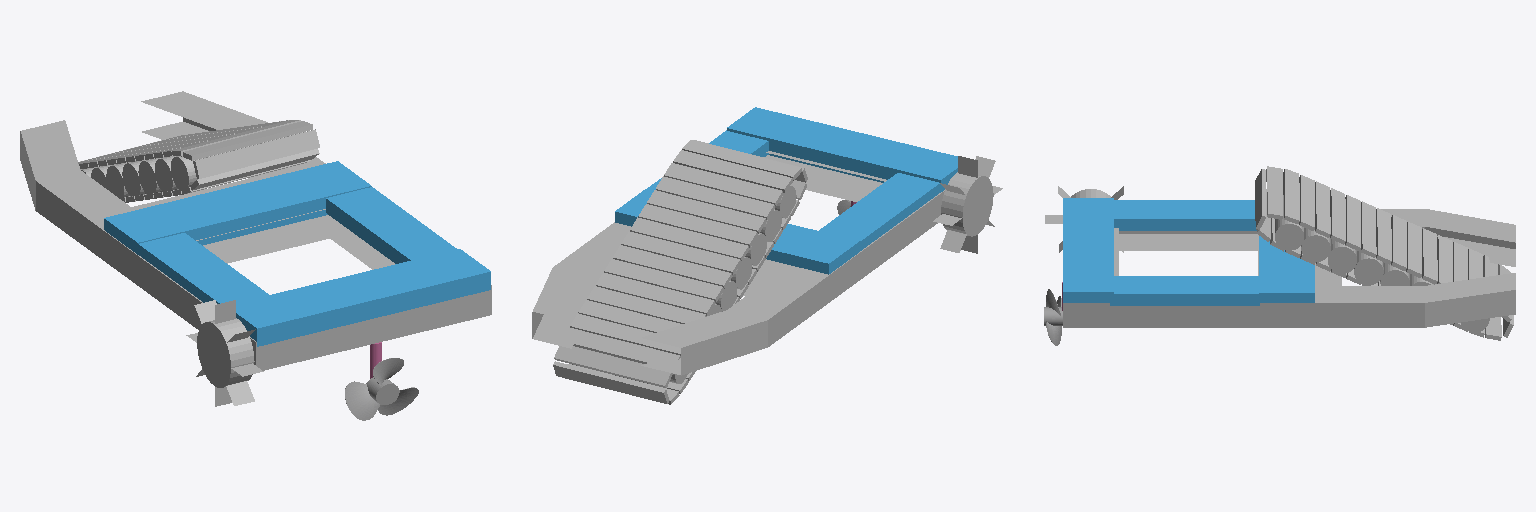
URDF robot description (kuka_kr210_arm):
<?xml version="1.0" ?>
<!-- =================================================================================== -->
<!-- |    This document was autogenerated by xacro from kr210.urdf.xacro               | -->
<!-- |    EDITING THIS FILE BY HAND IS NOT RECOMMENDED                                 | -->
<!-- =================================================================================== -->
<robot name="kuka_kr210_arm">
  <!-- Link0 -->
  <gazebo reference="base_link">
    <material>Gazebo/Red</material>
    <mu1>2</mu1>
    <mu2>2</mu2>
  </gazebo>
  <!-- Link1 -->
  <gazebo reference="link_1">
    <mu1>0.2</mu1>
    <mu2>0.2</mu2>
  </gazebo>
  <!-- Link2 -->
  <gazebo reference="link_2">
    <mu1>0.2</mu1>
    <mu2>0.2</mu2>
  </gazebo>
  <!-- Link3 -->
  <gazebo reference="link_3">
    <mu1>0.2</mu1>
    <mu2>0.2</mu2>
  </gazebo>
  <!-- Link4 -->
  <gazebo reference="link_4">
    <mu1>0.2</mu1>
    <mu2>0.2</mu2>
  </gazebo>
  <!-- Link5 -->
  <gazebo reference="link_5">
    <mu1>0.2</mu1>
    <mu2>0.2</mu2>
  </gazebo>
  <!-- Link6 -->
  <gazebo reference="link_6">
    <mu1>0.2</mu1>
    <mu2>0.2</mu2>
  </gazebo>
  <!-- Gripper -->
  <gazebo reference="gripper_link">
    <material>Gazebo/Red</material>
    <mu1>0.2</mu1>
    <mu2>0.2</mu2>
  </gazebo>
  <gazebo reference="left_gripper_finger_link">
    <material>Gazebo/Red</material>
    <kp>1000000.0</kp>
    <kd>1.0</kd>
    <mu1>30.0</mu1>
    <mu2>30.0</mu2>
  </gazebo>
  <gazebo reference="right_gripper_finger_link">
    <material>Gazebo/Red</material>
    <kp>1000000.0</kp>
    <kd>1.0</kd>
    <mu1>30.0</mu1>
    <mu2>30.0</mu2>
  </gazebo>
-->

  <!-- grasp plugin -->
  <gazebo>
    <plugin filename="libgazebo_grasp_fix.so" name="gazebo_grasp_fix">
      <arm>
        <arm_name>kuka_arm</arm_name>
        <palm_link>link_6</palm_link>
        <gripper_link>right_gripper_finger_link</gripper_link>
        <gripper_link>left_gripper_finger_link</gripper_link>
      </arm>
      <forces_angle_tolerance>100</forces_angle_tolerance>
      <update_rate>4</update_rate>
      <grip_count_threshold>4</grip_count_threshold>
      <max_grip_count>8</max_grip_count>
      <release_tolerance>0.003</release_tolerance>
      <disable_collisions_on_attach>false</disable_collisions_on_attach>
      <contact_topic>_default_topic_</contact_topic>
    </plugin>
  </gazebo>
  <!--Links-->
  <link name="base_footprint"/>
  <link name="base_link">
    <inertial>
      <origin rpy="0 0 0" xyz="0 0 0"/>
      <mass value="150"/>
      <inertia ixx="60" ixy="0" ixz="0" iyy="70" iyz="0" izz="100"/>
    </inertial>
    <visual>
      <origin rpy="0 0 0" xyz="0 0 0"/>
      <geometry>
        <mesh filename="package://kuka_kr210_arm/meshes/visual/chasis.dae"/>
      </geometry>
      <material name="">
        <color rgba="0.75294 0.75294 0.75294 1"/>
      </material>
    </visual>
    <collision>
      <origin rpy="0 0 0" xyz="0 0 0"/>
      <geometry>
        <mesh filename="package://kuka_kr210_arm/meshes/collision/chasis.stl"/>
      </geometry>
    </collision>
  </link>
  <link name="link_1">
    <inertial>
      <origin rpy="1.5 0 0" xyz="0 0 0.4"/>
      <mass value="138"/>
      <inertia ixx="30" ixy="0" ixz="0" iyy="50" iyz="0" izz="50"/>
    </inertial>
    <visual>
      <origin rpy="0 0 0" xyz="0 0 0"/>
      <geometry>
        <mesh filename="package://kuka_kr210_arm/meshes/visual/wheel1.dae"/>
      </geometry>
      <material name="green">
        <color rgba="0.75294 0.75294 0.75294 1"/>
      </material>
    </visual>
    <collision>
      <origin rpy="0 90 0" xyz="-4.4917 2.9837 -0.00299"/>
      <geometry>
        <mesh filename="package://kuka_kr210_arm/meshes/collision/wheel1.stl"/>
      </geometry>
    </collision>
  </link>
  <link name="link_2">
    <inertial>
      <origin rpy="0 0 0" xyz="0 0 0"/>
      <mass value="95"/>
      <inertia ixx="40" ixy="0" ixz="0" iyy="40" iyz="0" izz="10"/>
    </inertial>
    <visual>
      <origin rpy="0 0 0" xyz="0 0 0"/>
      <geometry>
        <mesh filename="package://kuka_kr210_arm/meshes/visual/wheel2.dae"/>
      </geometry>
      <material name="">
        <color rgba="0.75294 0.75294 0.75294 1"/>
      </material>
    </visual>
    <collision>
      <origin rpy="0 0 0" xyz="0 0 0"/>
      <geometry>
        <mesh filename="package://kuka_kr210_arm/meshes/collision/wheel2.stl"/>
      </geometry>
    </collision>
  </link>
  <link name="link_3">
    <inertial>
      <origin rpy="0 0 0" xyz="0.18842 0.18344 -0.042799"/>
      <mass value="71"/>
      <inertia ixx="1" ixy="0" ixz="0" iyy="10" iyz="0" izz="10"/>
    </inertial>
    <visual>
      <origin rpy="0 0 0" xyz="0 0 0"/>
      <geometry>
        <mesh filename="package://kuka_kr210_arm/meshes/visual/wheel3.dae"/>
      </geometry>
      <material name="">
        <color rgba="0.75294 0.75294 0.75294 1"/>
      </material>
    </visual>
    <collision>
      <origin rpy="0 0 0" xyz="0 0 0"/>
      <geometry>
        <mesh filename="package://kuka_kr210_arm/meshes/collision/wheel3.stl"/>
      </geometry>
    </collision>
  </link>
  <link name="link_4">
    <inertial>
      <origin rpy="0 0 0" xyz="0 0 0"/>
      <mass value="17"/>
      <inertia ixx="0.18" ixy="0" ixz="0" iyy="0.55" iyz="0" izz="0.64"/>
    </inertial>
    <visual>
      <origin rpy="0 0 0" xyz="0 0 0"/>
      <geometry>
        <mesh filename="package://kuka_kr210_arm/meshes/visual/wheel4.dae"/>
      </geometry>
      <material name="">
        <color rgba="0.75294 0.75294 0.75294 1"/>
      </material>
    </visual>
    <collision>
      <origin rpy="0 0 0" xyz="0 0 0"/>
      <geometry>
        <mesh filename="package://kuka_kr210_arm/meshes/collision/wheel4.stl"/>
      </geometry>
    </collision>
  </link>
  <link name="link_5">
    <inertial>
      <origin rpy="0 0 0" xyz="0 0 0"/>
      <mass value="7"/>
      <inertia ixx="0.04" ixy="0" ixz="0" iyy="0.068" iyz="0" izz="0.068"/>
    </inertial>
    <visual>
      <origin rpy="-1.570796327 0 0" xyz="0 0 0"/>
      <geometry>
        <mesh filename="package://kuka_kr210_arm/meshes/visual/insidebelt.dae"/>
      </geometry>
      <material name="">
        <color rgba="0.75294 0.75294 0.75294 1"/>
      </material>
    </visual>
    <collision>
      <origin rpy="0 0 0" xyz="0 0 0"/>
      <geometry>
        <mesh filename="package://kuka_kr210_arm/meshes/collision/insidebelt.stl"/>
      </geometry>
    </collision>
  </link>
  <link name="link_6">
    <inertial>
      <origin rpy="0 0 0" xyz="0 0 0"/>
      <mass value="0.5"/>
      <inertia ixx="0.004" ixy="0" ixz="0" iyy="0.003" iyz="0" izz="0.003"/>
    </inertial>
    <visual>
      <origin rpy="0 0 0" xyz="0 0 0"/>
      <geometry>
        <mesh filename="package://kuka_kr210_arm/meshes/visual/oo.dae"/>
      </geometry>
      <material name="">
        <color rgba="0.75294 0.75294 0.75294 1"/>
      </material>
    </visual>
    <collision>
      <origin rpy="0 0 0" xyz="0 0 0"/>
      <geometry>
        <mesh filename="package://kuka_kr210_arm/meshes/collision/oo.stl"/>
      </geometry>
    </collision>
  </link>
  <link name="messLink">
    <inertial>
      <origin rpy="0 0 0" xyz="0 0 0"/>
      <mass value="0.5"/>
      <inertia ixx="0.004" ixy="0" ixz="0" iyy="0.003" iyz="0" izz="0.003"/>
    </inertial>
    <visual>
      <origin rpy="0 0 0" xyz="0 0 0"/>
      <geometry>
        <mesh filename="package://kuka_kr210_arm/meshes/visual/m2.dae"/>
      </geometry>
      <material name="">
        <color rgba="0.75294 0.75294 0.75294 1"/>
      </material>
    </visual>
    <collision>
      <origin rpy="0 0 0" xyz="0 0 0"/>
      <geometry>
        <mesh filename="package://kuka_kr210_arm/meshes/collision/m2.stl"/>
      </geometry>
    </collision>
  </link>
  <link name="height">
    <inertial>
      <origin rpy="0 0 0" xyz="0 0 0"/>
      <mass value="0.3"/>
      <inertia ixx="0.0001" ixy="0" ixz="0" iyy="0.0002" iyz="0" izz="0.0001"/>
    </inertial>
    <visual>
      <origin rpy="0 0 0" xyz="0 0 0"/>
      <geometry>
        <mesh filename="package://kuka_kr210_arm/meshes/visual/height.dae"/>
      </geometry>
    </visual>
    <collision>
      <origin rpy="0 0 0" xyz="0 0 0"/>
      <geometry>
        <mesh filename="package://kuka_kr210_arm/meshes/visual/height.stl"/>
      </geometry>
    </collision>
  </link>
  
  <link name="gripper_link">
    <inertial>
      <origin rpy="0 0 0" xyz="0 0 0"/>
      <mass value="0.3"/>
      <inertia ixx="0.0001" ixy="0" ixz="0" iyy="0.0002" iyz="0" izz="0.0001"/>
    </inertial>
    <visual>
      <origin rpy="0 0 0" xyz="0 0 0"/>
      <geometry>
        <mesh filename="package://kuka_kr210_arm/meshes/visual/fan.dae"/>
      </geometry>
    </visual>
    <collision>
      <origin rpy="0 0 0" xyz="0 0 0"/>
      <geometry>
        <mesh filename="package://kuka_kr210_arm/meshes/visual/fan.stl"/>
      </geometry>
    </collision>
  </link>
   <link name="camera">
    <inertial>
      <origin rpy="0 0 0" xyz="0 0 0"/>
      <mass value="0.3"/>
      <inertia ixx="0.0001" ixy="0" ixz="0" iyy="0.0002" iyz="0" izz="0.0001"/>
    </inertial>
    <visual>
      <origin rpy="0 0 0" xyz="0 0 0"/>
      <geometry>
        <mesh filename="package://kuka_kr210_arm/meshes/visual/mcam.dae"/>
      </geometry>
    </visual>
    <collision>
      <origin rpy="0 0 0" xyz="0 0 0"/>
      <geometry>
        <mesh filename="package://kuka_kr210_arm/meshes/visual/mcam.stl"/>
      </geometry>
    </collision>
  </link>
  <link name="right_gripper_finger_link">
    <inertial>
      <origin rpy="0 0 0" xyz="0 0 0"/>
      <mass value="0.1"/>
      <inertia ixx="0.002" ixy="0" ixz="0" iyy="0.0002" iyz="0" izz="0.0002"/>
    </inertial>
    <visual>
      <origin rpy="0 0 0" xyz="0 0 0"/>
      <geometry>
        <mesh filename="package://kuka_kr210_arm/meshes/visual/mcam2.dae"/>
      </geometry>
    </visual>
    <collision>
      <origin rpy="0 0 0" xyz="0 0 0"/>
      <geometry>
        <mesh filename="package://kuka_kr210_arm/meshes/collision/mcam2.stl"/>
      </geometry>
    </collision>
  </link>
  <link name="left_gripper_finger_link">
    <inertial>
      <origin rpy="0 0 0" xyz="0 0 0"/>
      <mass value="0.1"/>
      <inertia ixx="0.002" ixy="0" ixz="0" iyy="0.0002" iyz="0" izz="0.0002"/>
    </inertial>
    <visual>
      <origin rpy="0 0 0" xyz="0 0 0"/>
      <geometry>
        <mesh filename="package://kuka_kr210_arm/meshes/visual/towers.dae"/>
      </geometry>
    </visual>
    <collision>
      <origin rpy="0 0 0" xyz="0 0 0"/>
      <geometry>
        <mesh filename="package://kuka_kr210_arm/meshes/collision/towers.stl"/>
      </geometry>
    </collision>
  </link>
   <link name="pipe">
    <inertial>
      <origin rpy="0 0 0" xyz="0 0 0"/>
      <mass value="0.1"/>
      <inertia ixx="0.002" ixy="0" ixz="0" iyy="0.0002" iyz="0" izz="0.0002"/>
    </inertial>
    <visual>
      <origin rpy="0 0 0" xyz="0 0 0"/>
      <geometry>
        <mesh filename="package://kuka_kr210_arm/meshes/visual/pipe.dae"/>
      </geometry>
    </visual>
    <collision>
      <origin rpy="0 0 0" xyz="0 0 0"/>
      <geometry>
        <mesh filename="package://kuka_kr210_arm/meshes/collision/pipe.stl"/>
      </geometry>
    </collision>
  </link>

  <joint name="mess_to_chasis" type="fixed">
    <origin rpy="0 0 0" xyz="-4 -6.5 -1.2"/>
    <parent link="base_link"/>
    <child link="messLink"/>
    <axis xyz="0 1 0"/>
    <limit effort="100" lower="-0.01" upper="0.06" velocity="0.05"/>
    <dynamics damping="0.7"/>
  </joint>
  <joint name="mess_to_height" type="fixed">
    <origin rpy="0 0 0" xyz="-4 -3 0.0"/>
    <parent link="base_link"/>
    <child link="height"/>
    <axis xyz="0 1 0"/>
    <limit effort="100" lower="-0.01" upper="0.06" velocity="0.05"/>
    <dynamics damping="0.7"/>
  </joint>
  <joint name="cam_to_baselink" type="fixed">
    <origin rpy="0 0 0" xyz="-1.7 4.9 1.2"/>
    <parent link="base_link"/>
    <child link="camera"/>
    <axis xyz="0 1 0"/>
    <limit effort="100" lower="-0.01" upper="0.06" velocity="0.05"/>
    <dynamics damping="0.7"/>
  </joint>
  <joint name="right_gripper_finger_joint" type="fixed">
    <origin rpy="0 0 0" xyz="-6 4.9 1.2"/>
    <parent link="base_link"/>
    <child link="right_gripper_finger_link"/>
    <axis xyz="0 1 0"/>
    <limit effort="100" lower="-0.01" upper="0.06" velocity="0.05"/>
    <dynamics damping="0.7"/>
  </joint>
  <joint name="left_gripper_finger_joint" type="prismatic">
    <origin rpy="0 0 0" xyz="-4 -3 0"/>
    <parent link="base_link"/>
    <child link="left_gripper_finger_link"/>
    <axis xyz="0 -1 0"/>
    <limit effort="100" lower="-0.01" upper="0.06" velocity="0.05"/>
    <dynamics damping="0.7"/>
  </joint>
  <joint name="fan" type="fixed">
    <parent link="pipe"/>
    <child link="gripper_link"/>
    <origin rpy="0 0 0" xyz="-0.1 0 0"/>
    <!--0.087-->
    <axis xyz="1 0 0"/>
  </joint>
  <!-- joints -->
  <joint name="fixed_base_joint" type="fixed">
    <parent link="base_footprint"/>
    <child link="base_link"/>
    <origin rpy="0 0 0" xyz="0 0 0"/>
  </joint>
  <joint name="joint_1" type="continuous">
  <limit effort="1000" lower="-0" upper="0" velocity="0.5"/>
  <axis xyz="0 1 0"/>
    <origin rpy="0 0 1.57" xyz="0.5 0 0"/>
    <parent link="base_link"/>
    <child link="link_1"/>
    <axis xyz="0 0 -1"/>
     <limit effort="100" lower="-5" upper="5" velocity="0.8"/>
  </joint>
  <joint name="joint_2" type="revolute">
    <origin rpy="0 0 1.57" xyz="-8.5 0 0"/>
    <parent link="base_link"/>
    <child link="link_2"/>
    <axis xyz="0 1 0"/>
	<limit effort="100" lower="-5" upper="5" velocity="0.8"/>
  </joint>
  <joint name="joint_3" type="revolute">
    <origin rpy="0 0 1.57" xyz="0.5 -10 0"/>
    <parent link="base_link"/>
    <child link="link_3"/>
    <axis xyz="0 1 0"/>
	<limit effort="100" lower="-5" upper="5" velocity="0.8"/>
  </joint>
  <joint name="joint_4" type="revolute">
    <origin rpy="0 0 1.57" xyz="-8.5 -10 0"/>
    <parent link="base_link"/>
    <child link="link_4"/>
    <axis xyz="0 1 0"/>
	<limit effort="100" lower="-5" upper="5" velocity="0.8"/>
  </joint>
  <joint name="joint_5" type="fixed">
    <origin rpy="4.7 0.45 1.57" xyz="-3.9 0.6 0.72"/>
    <parent link="base_link"/>
    <child link="link_5"/>
    <axis xyz="0 1 0"/>
    <limit effort="300" lower="-2.1816616250000003" upper="2.1816616250000003" velocity="3.0019663960000003"/>
  </joint>
  <joint name="joint_6" type="revolute">
    <origin rpy="6.27 0.45 1.57" xyz="-3.9 0 0.4"/>
    <parent link="base_link"/>
    <child link="link_6"/>
    <axis xyz="1 0 0"/>
    <limit effort="300" lower="-6.10865255" upper="6.10865255" velocity="3.8222711670000002"/>
  </joint>
 <joint name="base_link_pipe" type="fixed">
    <origin rpy="0 0 0" xyz="-4 -3 0.1"/>
    <parent link="base_link"/>
    <child link="pipe"/>
    <axis xyz="1 0 0"/>
    <limit effort="300" lower="-6.10865255" upper="6.10865255" velocity="3.8222711670000002"/>
  </joint>



  <gazebo>
    <plugin filename="libgazebo_ros2_control.so" name="gazebo_ros2_control">
      <robot_sim_type>gazebo_ros2_control/GazeboSystem</robot_sim_type>
      <parameters>package://kuka_kr210_arm/config/jtc.yaml</parameters>
    </plugin>
  </gazebo>
  


  <ros2_control name="GazeboSystem" type="system">
    <hardware>
      <plugin>gazebo_ros2_control/GazeboSystem</plugin>
  </hardware>

  <joint name="joint_1">
    <command_interface name="position">
      <param name="min">-3.14</param>
      <param name="max">3.14</param>
    </command_interface>
    <command_interface name="velocity">
      <param name="min">-3.15</param>
      <param name="max">3.15</param>
    </command_interface>
    <state_interface name="position"/>
    <state_interface name="velocity"/>
    <state_interface name="effort"/>
    <param name="initial_position">0.0</param>   
  </joint>
  <joint name="joint_2">
    <command_interface name="position">
      <param name="min">-3.14</param>
      <param name="max">3.14</param>
    </command_interface>
    <command_interface name="velocity">
      <param name="min">-3.15</param>
      <param name="max">3.15</param>
    </command_interface>
    <state_interface name="position"/>
    <state_interface name="velocity"/>
    <state_interface name="effort"/>
    <param name="initial_position">-1.57</param>   
  </joint>
  <joint name="joint_3">
    <command_interface name="position">
      <param name="min">-3.14</param>
      <param name="max">3.14</param>
    </command_interface>
    <command_interface name="velocity">
      <param name="min">-3.15</param>
      <param name="max">3.15</param>
    </command_interface>
    <state_interface name="position"/>
    <state_interface name="velocity"/>
    <state_interface name="effort"/>
    <param name="initial_position">0.0</param>   
  </joint>
  <joint name="joint_4">
    <command_interface name="position">
      <param name="min">-3.14</param>
      <param name="max">3.14</param>
    </command_interface>
    <command_interface name="velocity">
      <param name="min">-3.2</param>
      <param name="max">3.2</param>
    </command_interface>
    <state_interface name="position"/>
    <state_interface name="velocity"/>
    <state_interface name="effort"/>
    <param name="initial_position">-1.57</param>   
  </joint>
  <joint name="joint_5">
    <command_interface name="position">
      <param name="min">-3.14</param>
      <param name="max">3.14</param>
    </command_interface>
    <command_interface name="velocity">
      <param name="min">-3.2</param>
      <param name="max">3.2</param>
    </command_interface>
    <state_interface name="position"/>
    <state_interface name="velocity"/>
    <state_interface name="effort"/>
    <param name="initial_position">0.0</param>   
  </joint>
  <joint name="joint_6">
    <command_interface name="position">
      <param name="min">-3.14</param>
      <param name="max">3.14</param>
    </command_interface>
    <command_interface name="velocity">
      <param name="min">-3.2</param>
      <param name="max">3.2</param>
    </command_interface>
    <state_interface name="position"/>
    <state_interface name="velocity"/>
    <state_interface name="effort"/>
    <param name="initial_position">0.0</param>   
  </joint>

  <joint name="right_gripper_finger_joint">
    <command_interface name="position">
      <param name="min">-3.14</param>
      <param name="max">3.14</param>
    </command_interface>
    <command_interface name="velocity">
      <param name="min">-3.2</param>
      <param name="max">3.2</param>
    </command_interface>
    <state_interface name="position"/>
    <state_interface name="velocity"/>
    <state_interface name="effort"/>
    <param name="initial_position">0.0</param>   
  </joint>

  <joint name="left_gripper_finger_joint">
    <command_interface name="position">
      <param name="min">-3.14</param>
      <param name="max">3.14</param>
    </command_interface>
    <command_interface name="velocity">
      <param name="min">-3.2</param>
      <param name="max">3.2</param>
    </command_interface>
    <state_interface name="position"/>
    <state_interface name="velocity"/>
    <state_interface name="effort"/>
    <param name="initial_position">0.0</param>   
  </joint> 







</ros2_control>



</robot>

--- What the picture shows (computed from the rendered views, not written in the file) ---
Views: 3 orthographic renders of the robot side by side, from view 1: azimuth 30°, elevation 25°; view 2: azimuth 150°, elevation 25°; view 3: azimuth 270°, elevation 25°.
Robot: kuka_kr210_arm — 15 links, 14 joints (4 revolute, 1 continuous, 1 prismatic, 8 fixed); root link base_footprint; default pose: all joints at 0.
Links seen in each view (by area): view 1: height, base_link, link_6, link_4, link_5, gripper_link; view 2: link_6, base_link, height, link_4, link_5; view 3: base_link, height, link_6, link_5, gripper_link, link_4.
Boxes of the visible links, x1,y1,x2,y2 form: height: (104, 161, 490, 346); base_link: (20, 91, 491, 370); link_6: (78, 120, 319, 202); link_4: (186, 300, 263, 406); link_5: (80, 132, 302, 197); gripper_link: (345, 358, 418, 420); link_6: (553, 140, 807, 404); base_link: (532, 151, 944, 375); height: (615, 107, 957, 274); link_4: (933, 156, 1002, 253); link_5: (670, 186, 796, 383); base_link: (1063, 209, 1515, 327); height: (1063, 198, 1314, 305); link_6: (1255, 166, 1513, 340); link_5: (1275, 195, 1489, 332); gripper_link: (1044, 289, 1062, 345); link_4: (1045, 186, 1123, 252).
Bounding box of the posed robot: 8.87 × 16.92 × 6.02 m (x, y, z).
Meshes: 14 distinct files referenced, 7 mesh visuals loaded (7 Collada DAE); not drawn: 7 (reference not matched to a file when rendering).
